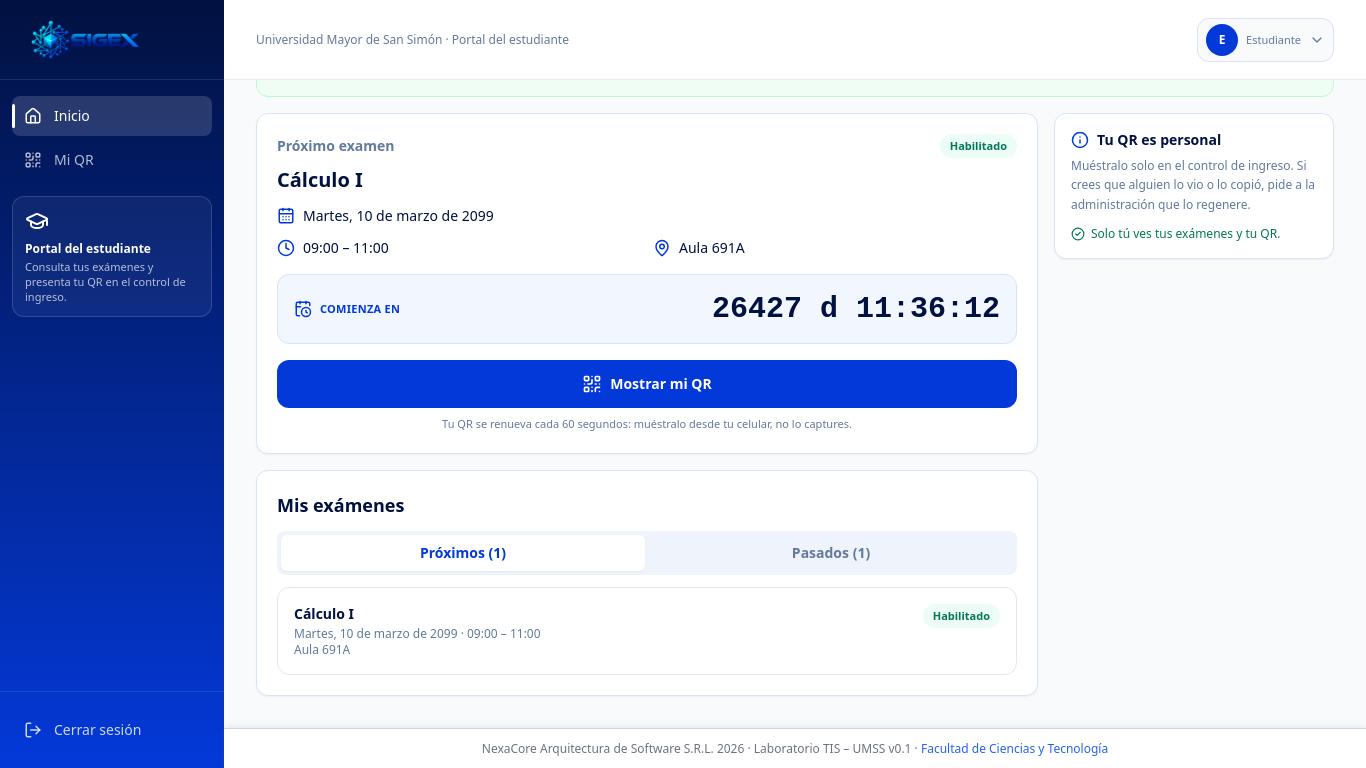
Panel de inicio del estudiante (CTA-03) › muestra el próximo examen, el aviso de habilitación y las pestañas
The width and height of the screenshot is (1366, 768).
(page scrolled)
Expected: the text "Cálculo I" below "Próximo examen" is shown, [277,166,363,193]
Click the tab "Pasados (1)".
click(831, 552)  # box [649,534,1013,570]
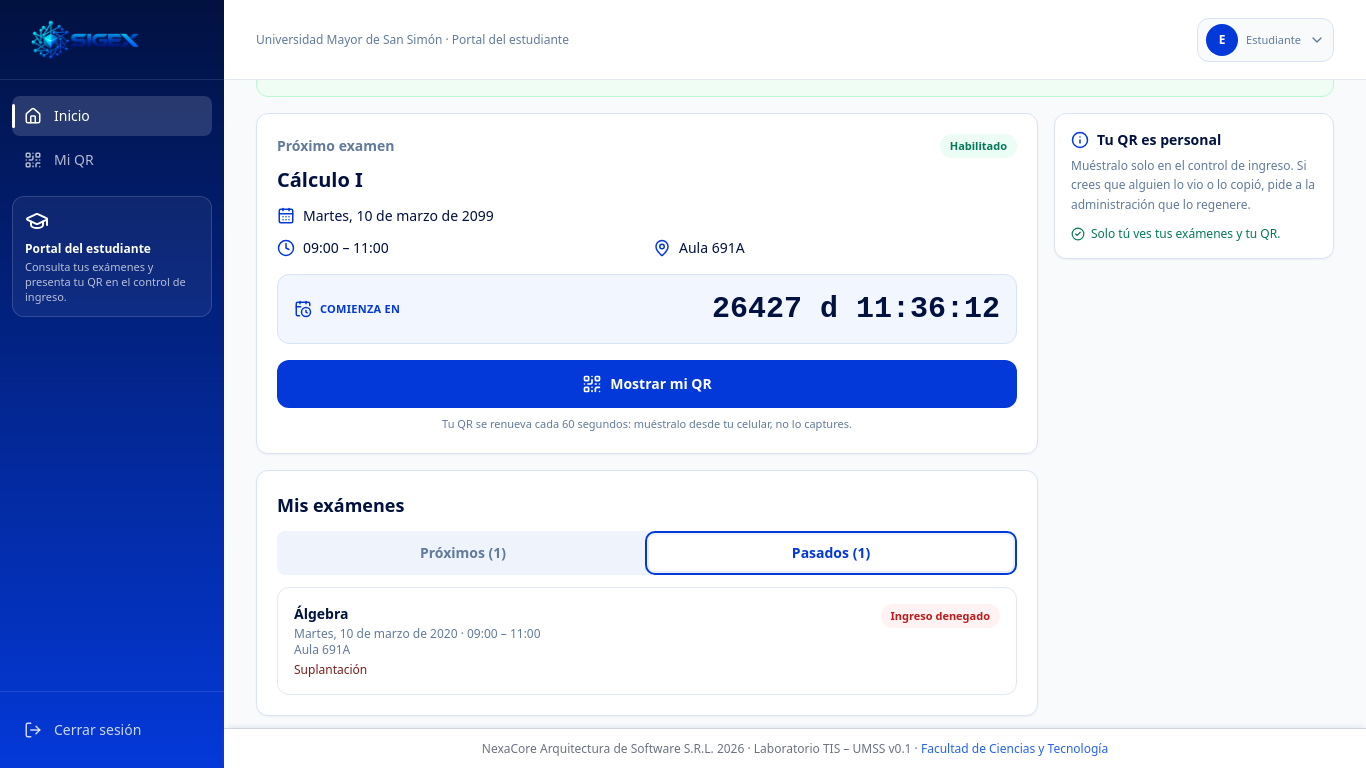
Result: the text "Ingreso denegado" is shown at [880,604,1000,628]
Result: the text "Suplantación" is shown at [294,660,367,678]
